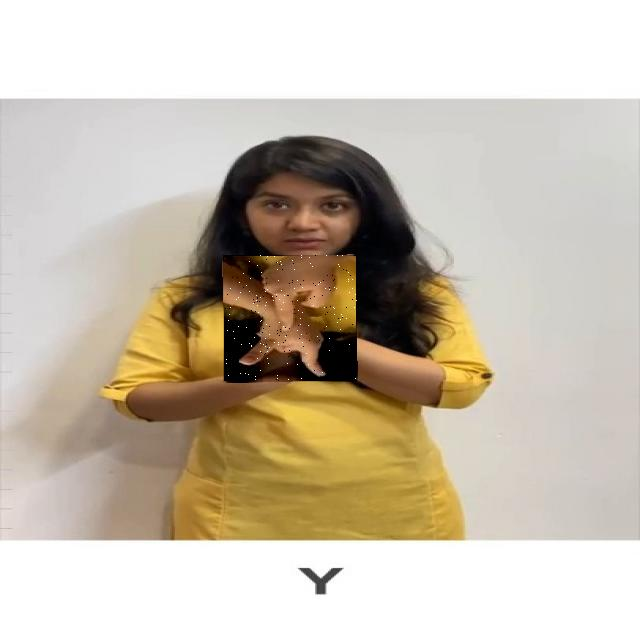Y: (223, 255, 357, 382)
